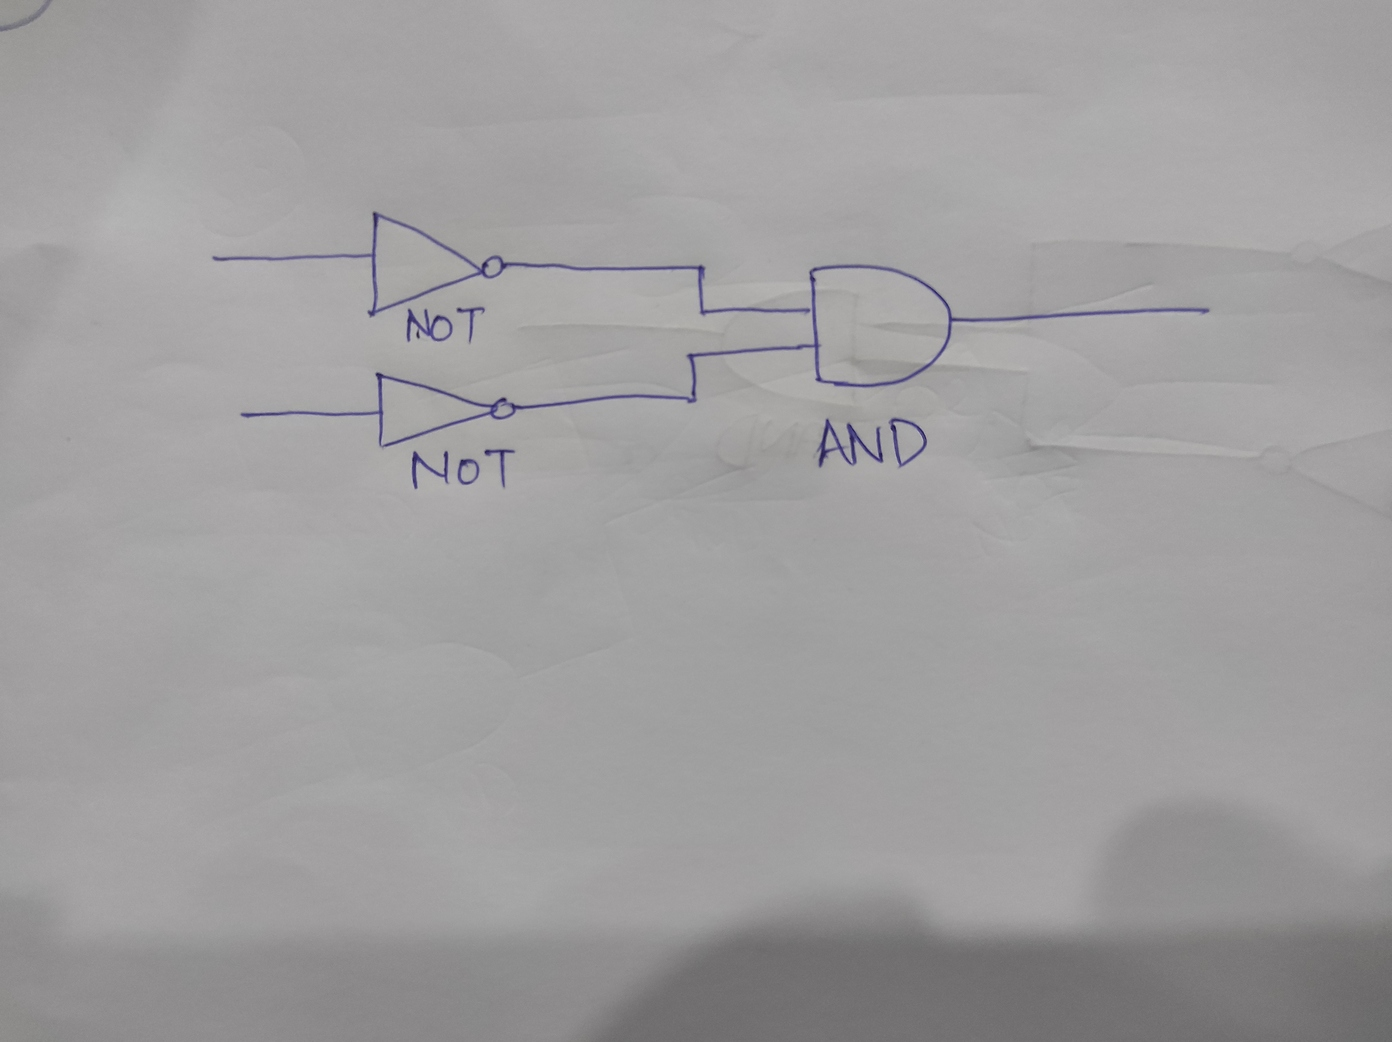and: (797, 257, 968, 391)
junction: (689, 257, 712, 279), (681, 387, 703, 408), (693, 305, 712, 323), (681, 349, 701, 364)
not: (361, 208, 510, 323), (372, 367, 522, 450)
terminal: (231, 403, 260, 428), (201, 248, 231, 269), (1192, 301, 1216, 321)
text: (815, 413, 930, 471), (408, 444, 517, 494), (401, 304, 490, 348)
